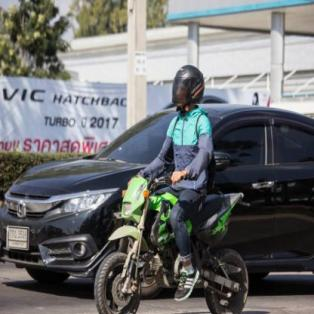Motocicleta: (98, 172, 251, 314)
